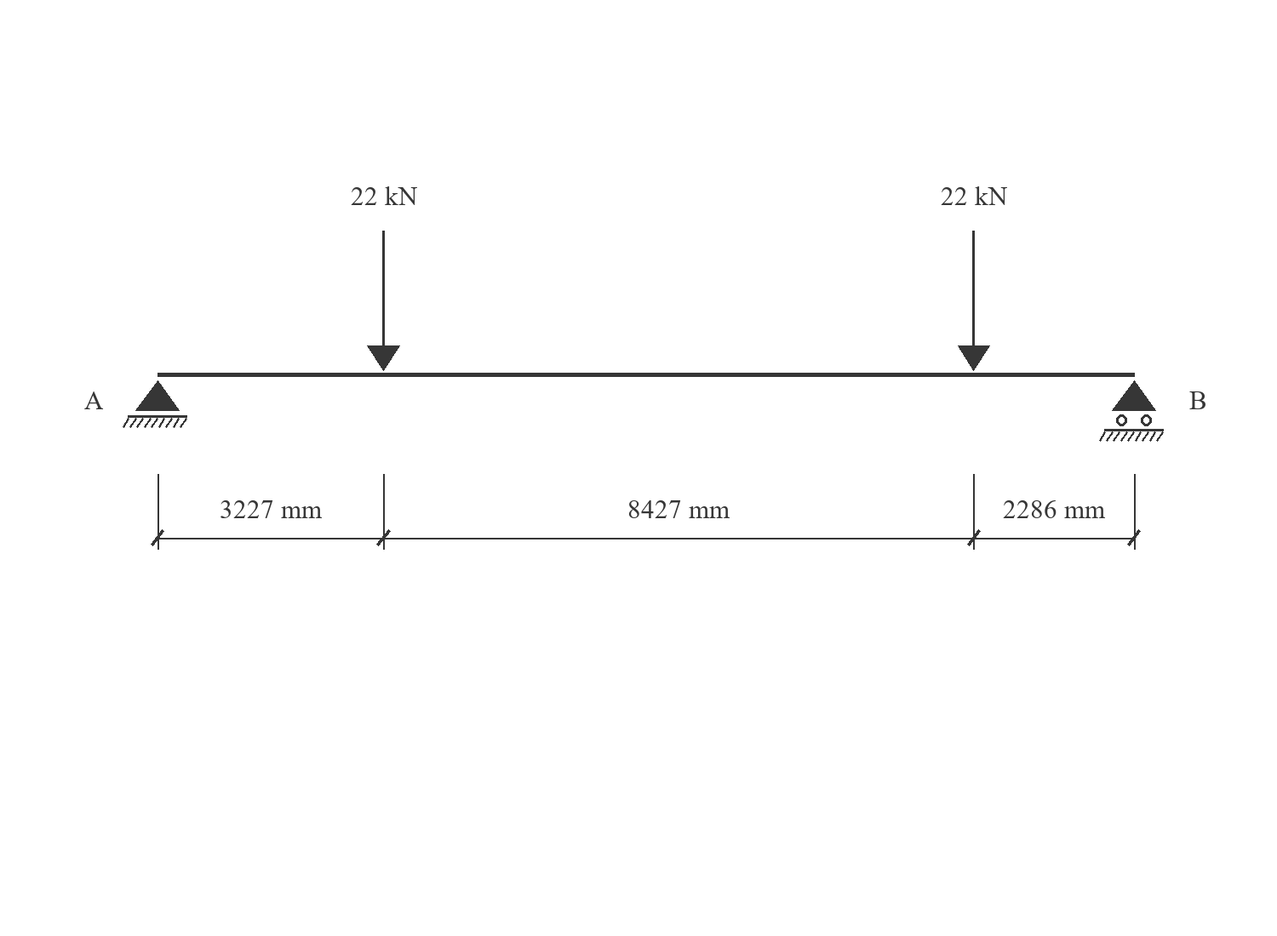pin_support: (123, 380, 187, 428)
point_load: (367, 231, 400, 371), (958, 231, 990, 371)
roller_support: (1099, 380, 1164, 442)
